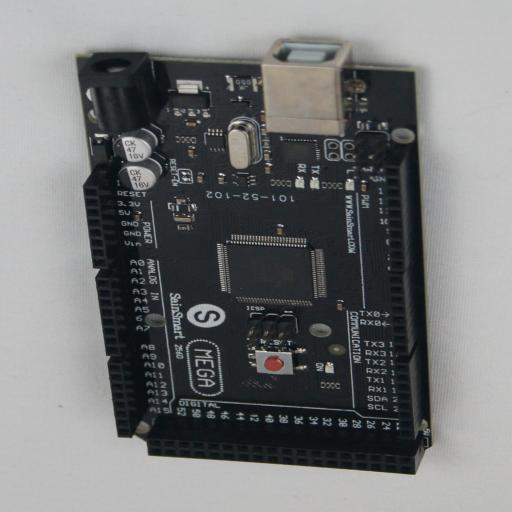Arduino Mega 2560 -Black-: (76, 42, 432, 474)
